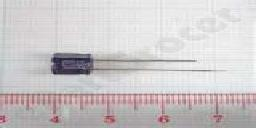Electrolytic Capacitor: (47, 50, 242, 82)
